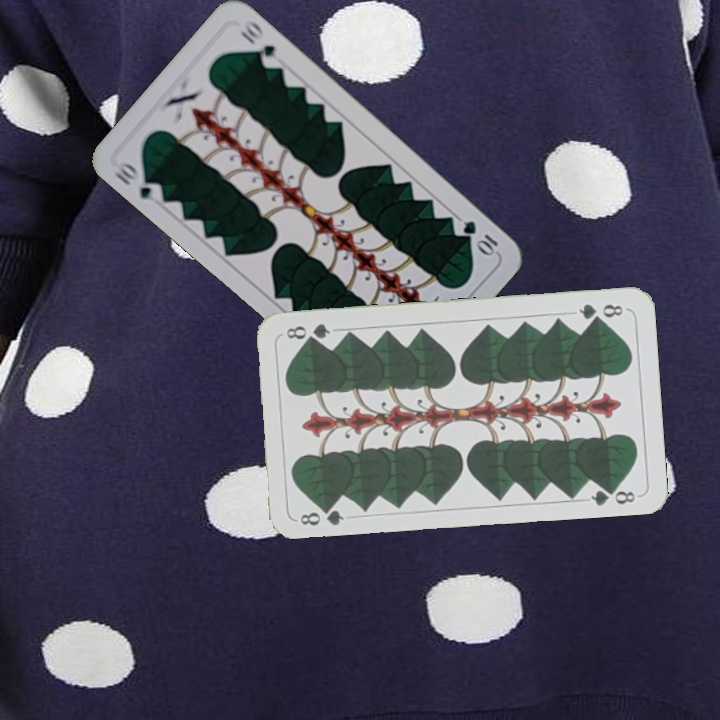G10: (110, 156, 166, 206), (458, 216, 502, 258)
G8: (296, 501, 347, 528), (575, 299, 626, 323)
